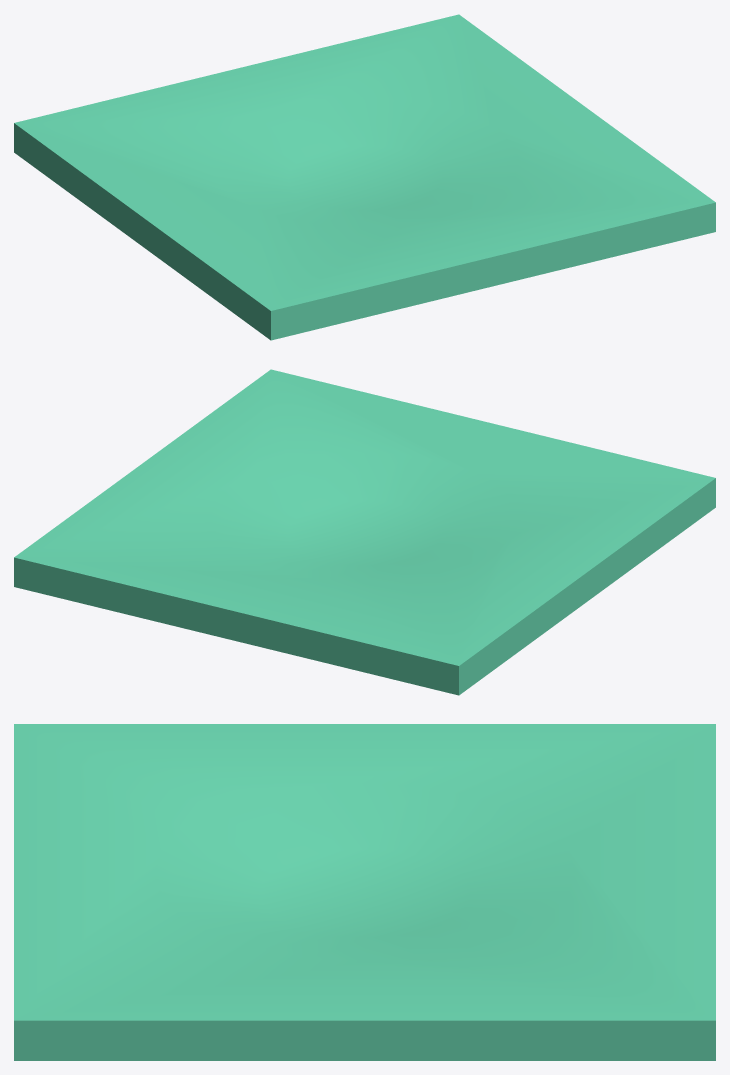
The model's file is bumpDown.glb.
3 views of the same model, one above another, from view 1: azimuth 30°, elevation 25°; view 2: azimuth 150°, elevation 25°; view 3: azimuth 270°, elevation 25° (orthographic). The views are drawn at different scales.
Parts seen in each view (by area): view 1: bumpDown; view 2: bumpDown; view 3: bumpDown.
Boxes of the visible parts, left/top/right/bottom form: bumpDown: left=14, top=14, right=715, bottom=340; bumpDown: left=14, top=369, right=715, bottom=695; bumpDown: left=14, top=724, right=715, bottom=1060.
Size of the model in its own units: 0.9999 by 0.0633 by 0.9999.
